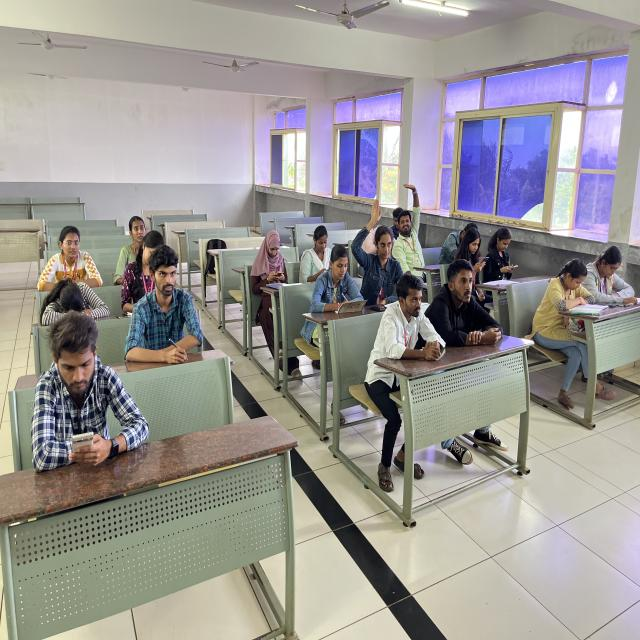Hand Rising: (348, 186, 407, 283), (383, 167, 431, 265)
Reading: (535, 257, 606, 325), (583, 233, 640, 305)
Sleeping: (32, 270, 115, 326)
Using Phone: (21, 316, 156, 479), (250, 217, 295, 298), (450, 228, 498, 286), (298, 212, 334, 287), (490, 214, 520, 286)
Writing: (122, 240, 210, 372), (314, 243, 371, 320)
